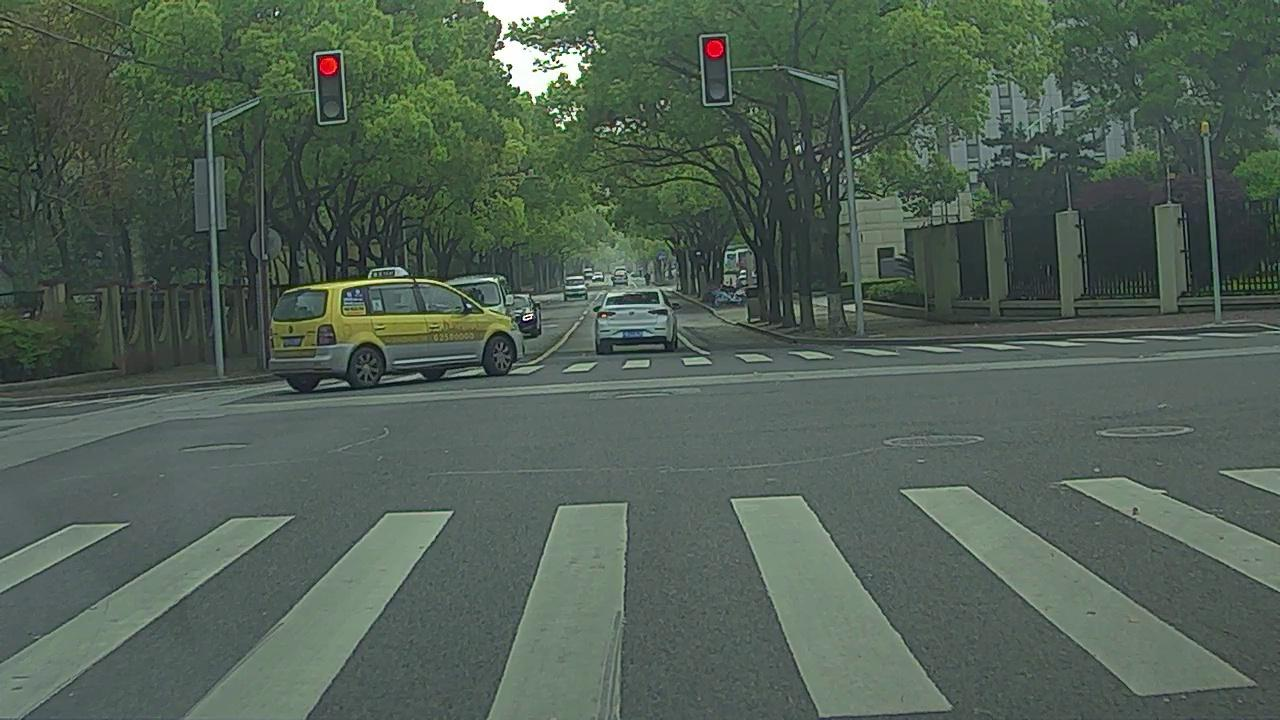traffic_light: (316, 52, 345, 122), (704, 37, 731, 102)
